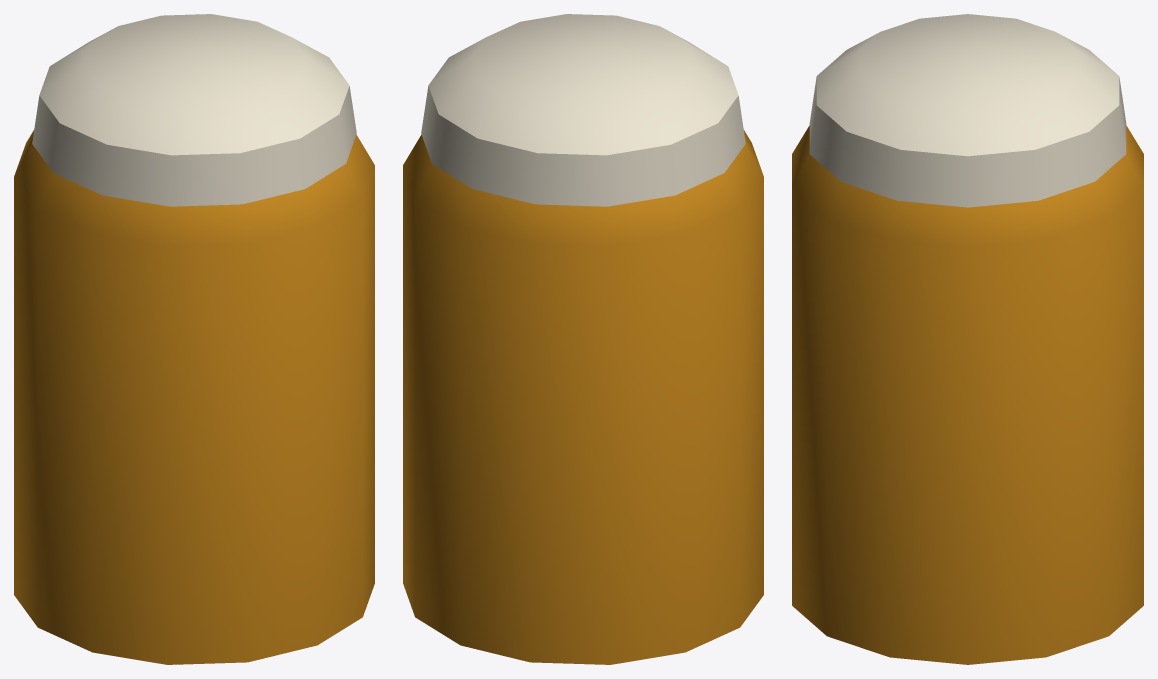
File: tpl_dispensa_vaso_m_miele.glb
3 renders of one model, left to right at view 1: azimuth 30°, elevation 25°; view 2: azimuth 150°, elevation 25°; view 3: azimuth 270°, elevation 25°, orthographic.
Parts seen in each view (by area): view 1: tpl_dispensa_vaso_m_miele; view 2: tpl_dispensa_vaso_m_miele; view 3: tpl_dispensa_vaso_m_miele.
Boxes of the visible parts, <box> form: tpl_dispensa_vaso_m_miele: <box>14,14,374,664</box>; tpl_dispensa_vaso_m_miele: <box>403,14,763,664</box>; tpl_dispensa_vaso_m_miele: <box>792,14,1143,664</box>.
Size of the model in its own units: 0.11 by 0.18 by 0.1072.
